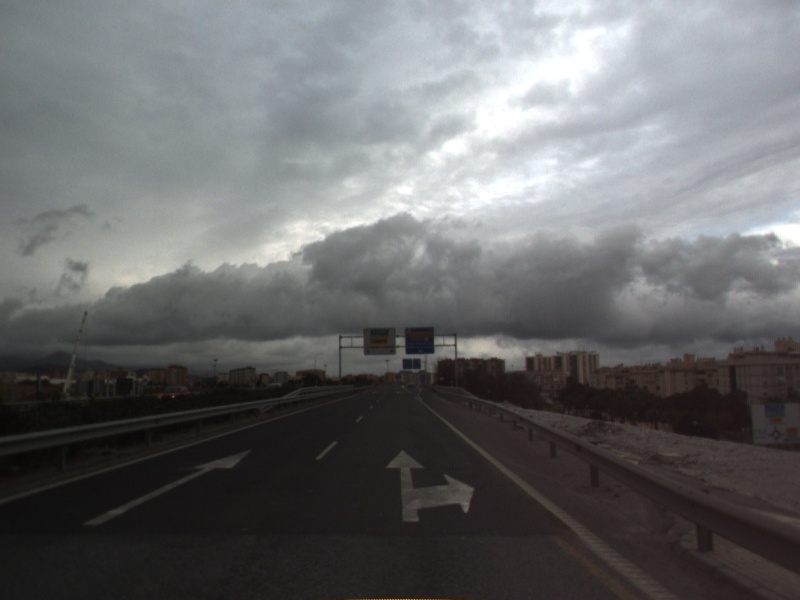STRAIGHT: (80, 447, 254, 528)
STRAIGHT_RIGHT: (383, 448, 477, 524)
